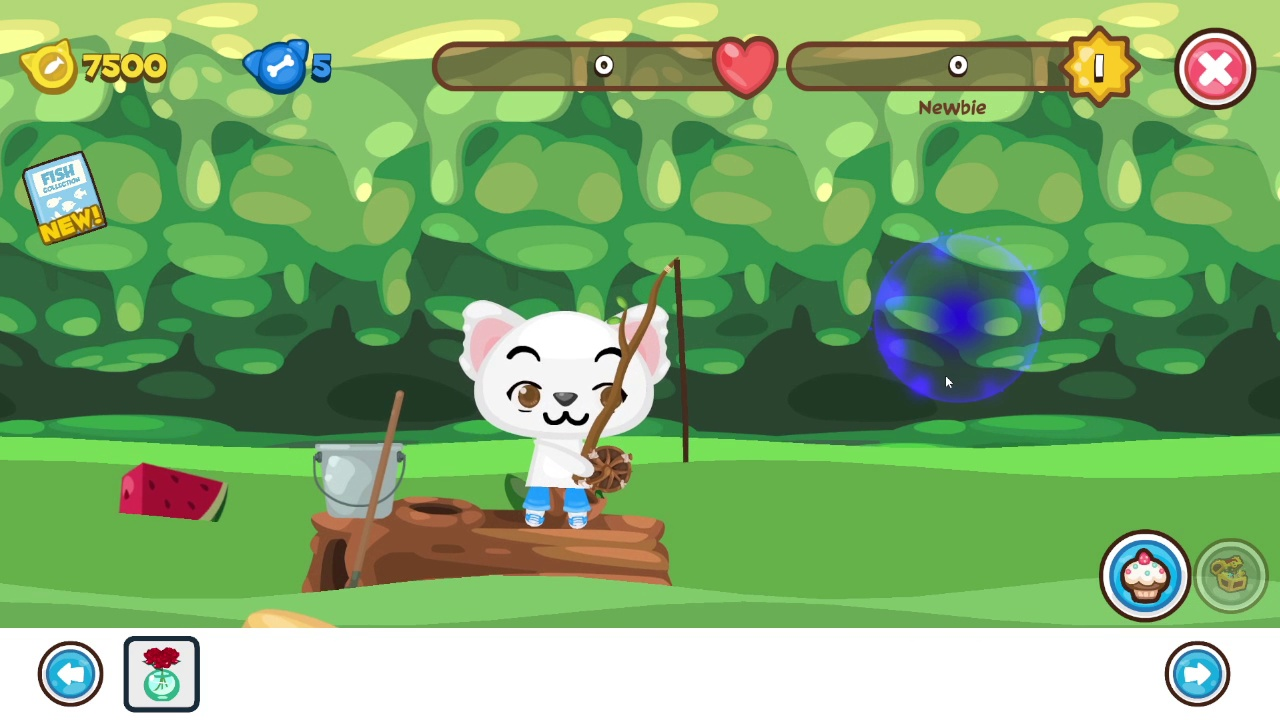point: (871, 232, 1044, 407)
